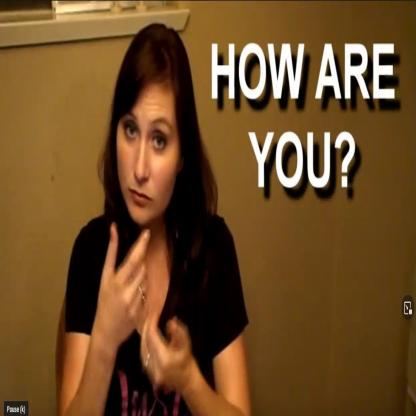HowAreYou: (99, 208, 198, 408)
